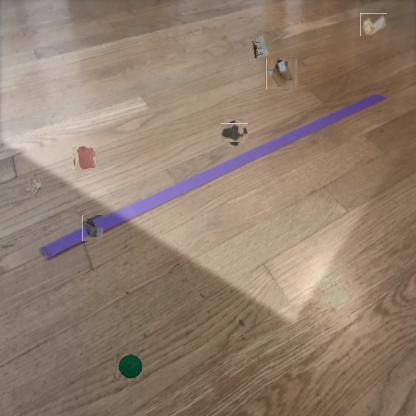dirty: (266, 58, 296, 89), (115, 354, 142, 382), (360, 13, 387, 36), (82, 215, 103, 241), (250, 35, 268, 59), (27, 180, 43, 196)
liquid: (73, 146, 97, 170), (223, 121, 246, 145)
